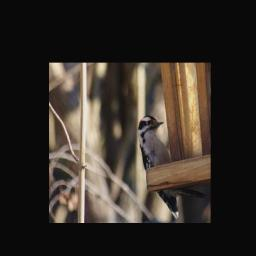Woodpecker: (137, 115, 206, 218)
